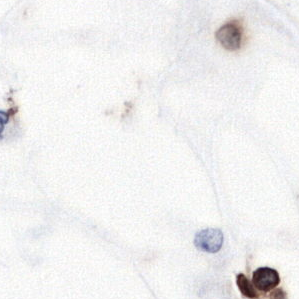Lymphocyte: (253, 267, 281, 291)
